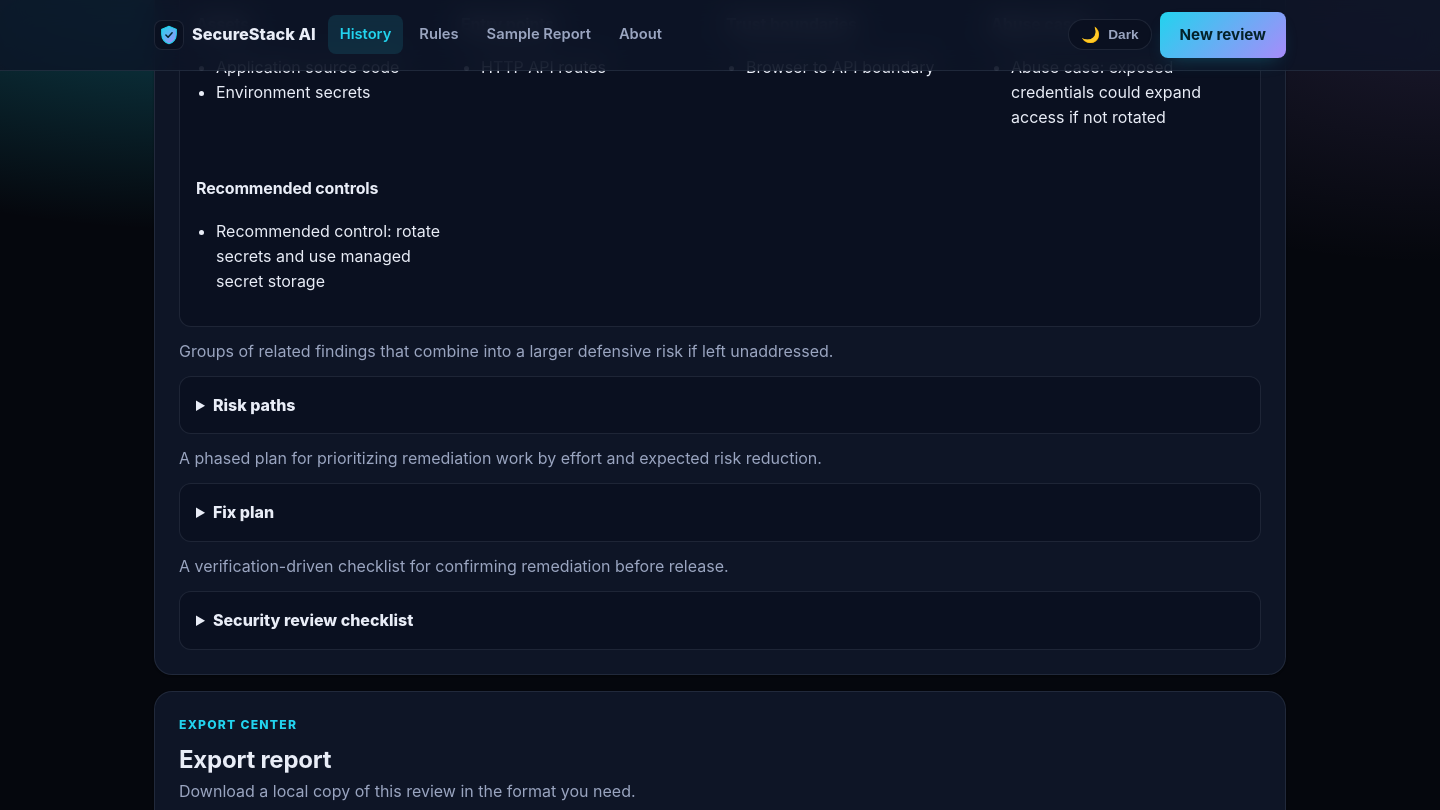
Test: results page › mocked risk path renders narrative and related findings
(page scrolled)
Click the heading "Risk paths". click: (254, 405)
box: [213,395,296,415]
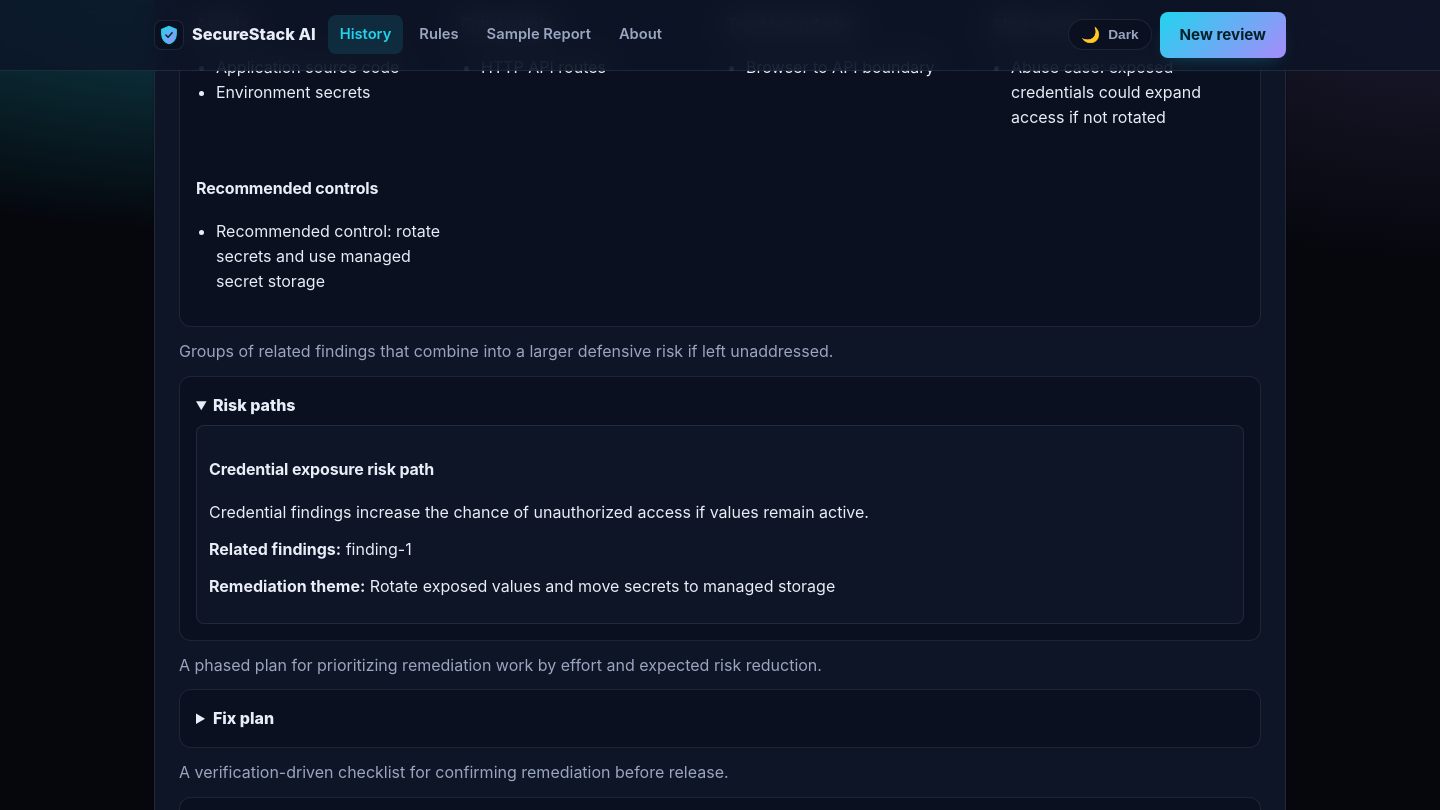
Result: the heading "Credential exposure risk path" is shown at [209,459,434,479]
Result: the text "Credential findings increase" is shown at [209,502,869,522]
Result: the text "Related findings: finding-1" is shown at [209,539,412,559]
